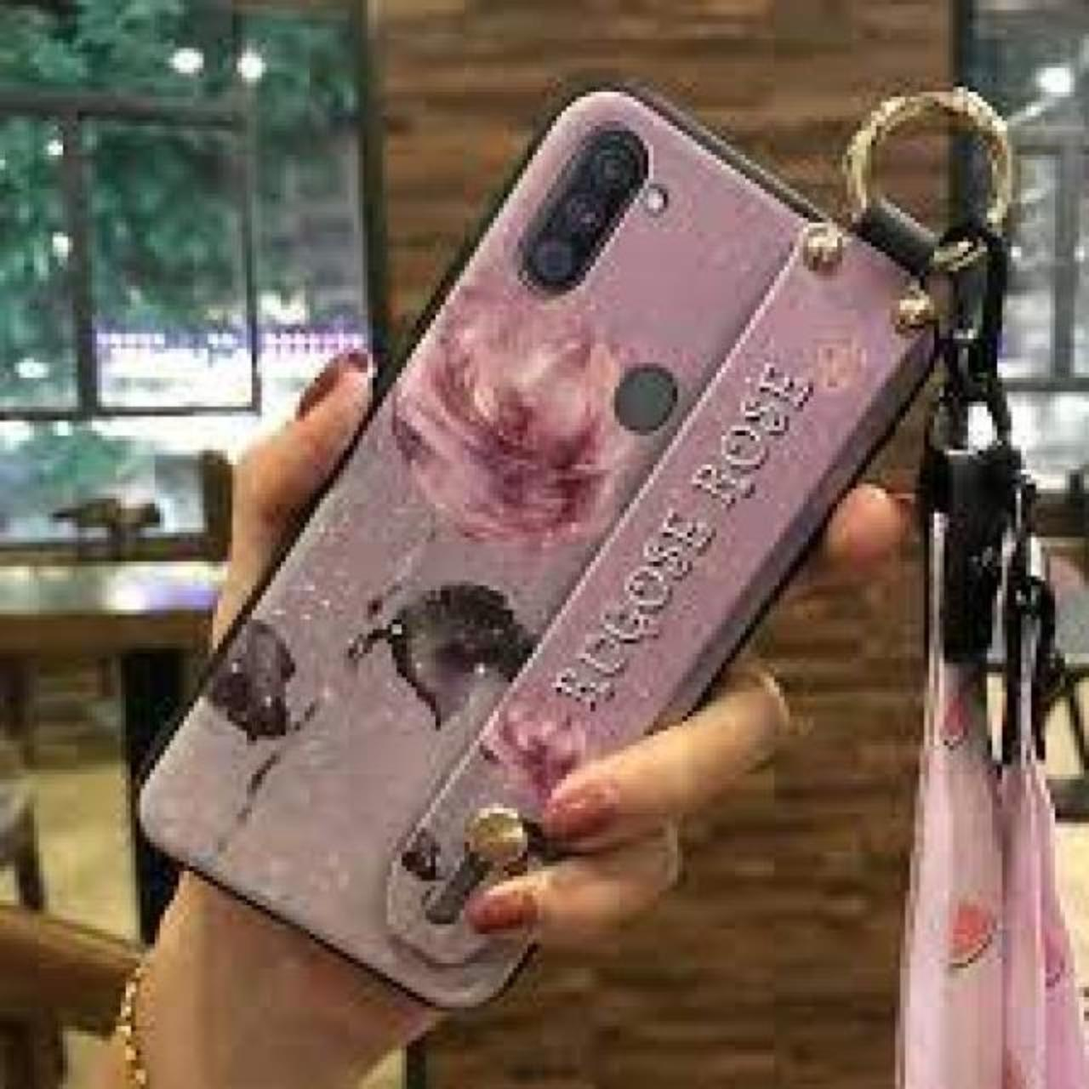phone: (133, 80, 941, 1007)
